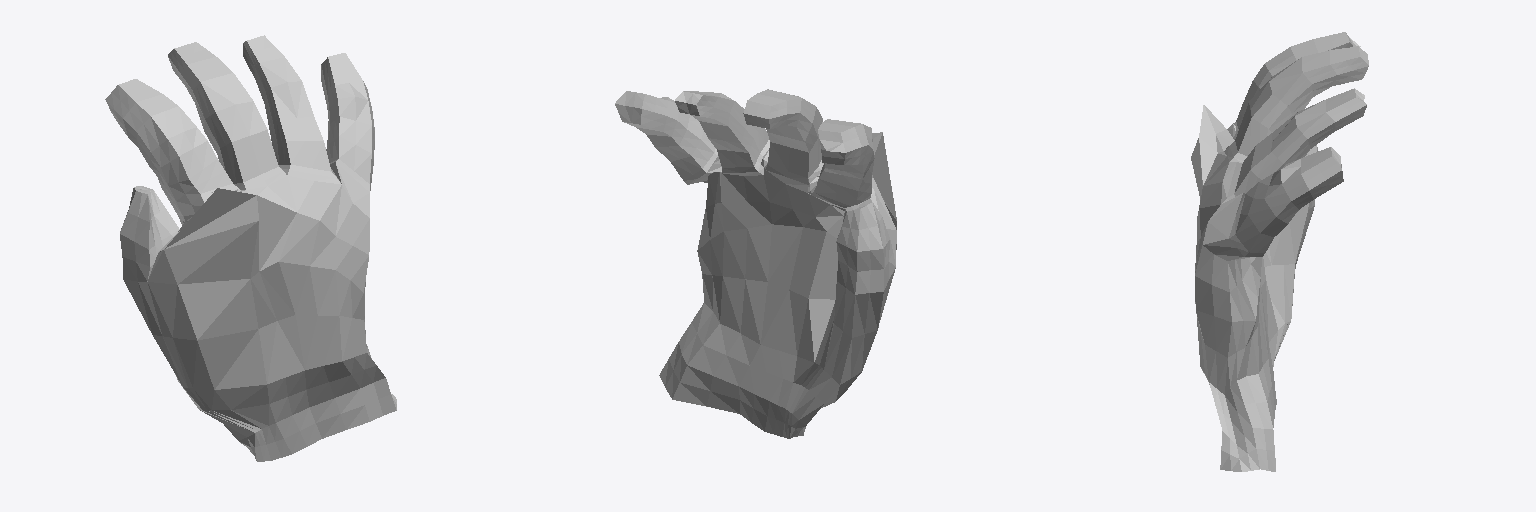
File: hand_sub2_triang0027.obj
The picture shows the model from 3 angles: view 1: azimuth 30°, elevation 25°; view 2: azimuth 150°, elevation 25°; view 3: azimuth 270°, elevation 25°; orthographic projection.
Visible parts, largest first — view 1: Hand; view 2: Hand; view 3: Hand.
Part boxes in pixels (bbox=[...]): Hand: bbox=[105, 35, 396, 461]; Hand: bbox=[615, 89, 896, 438]; Hand: bbox=[1191, 32, 1368, 471].
Bounding box in the file's own units: 2.95 × 4.25 × 1.81.